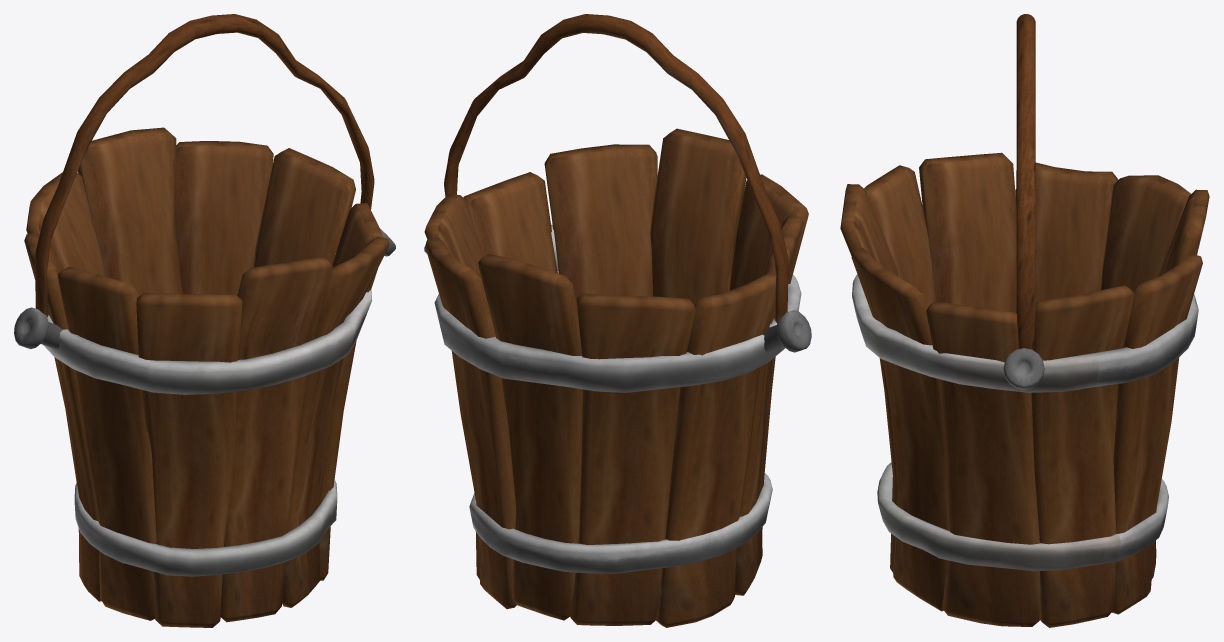
File: Balde.fbx
3 renders of one model, left to right at view 1: azimuth 30°, elevation 25°; view 2: azimuth 150°, elevation 25°; view 3: azimuth 270°, elevation 25°, orthographic.
Parts seen in each view (by area): view 1: Cube.016; view 2: Cube.016; view 3: Cube.016.
Boxes of the visible parts, x1,y1,x2,y2 form: Cube.016: (14, 14, 395, 627); Cube.016: (424, 14, 811, 627); Cube.016: (840, 14, 1209, 627).
Bounding box in the file's own units: 68.27 × 96.78 × 58.29.
